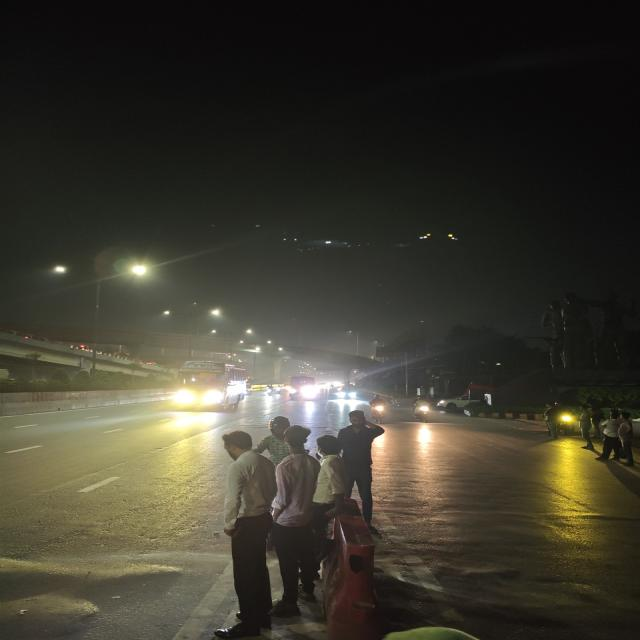bus: (171, 359, 251, 413), (287, 373, 318, 402)
car: (436, 394, 474, 413), (336, 384, 360, 401)
motorcycle: (408, 395, 433, 424), (368, 393, 390, 421), (264, 382, 275, 398)
pedestrian: (210, 423, 369, 639), (600, 409, 634, 463), (577, 414, 600, 452)
